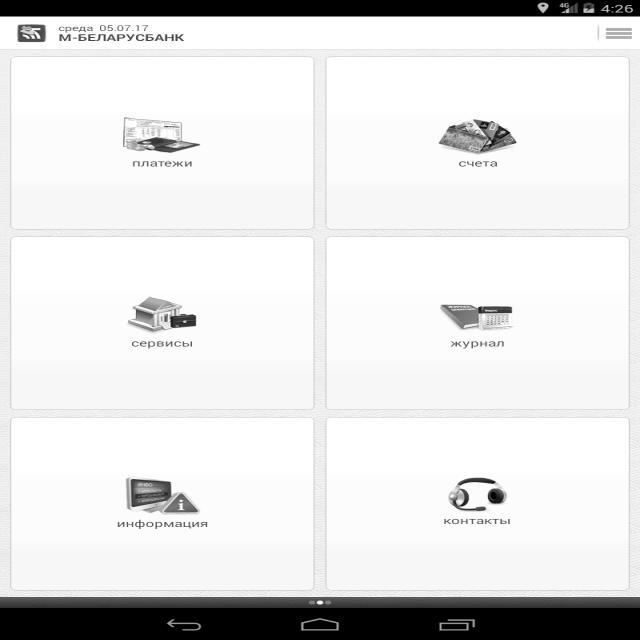ImageButton: (593, 21, 640, 43)
ImageView: (105, 104, 217, 158), (109, 472, 226, 515), (433, 108, 526, 154), (121, 290, 205, 330), (437, 474, 528, 510), (433, 298, 526, 332), (16, 22, 49, 43)
TextView: (58, 22, 189, 44), (114, 517, 213, 532), (440, 513, 516, 528), (127, 336, 197, 348), (452, 341, 510, 351), (454, 158, 502, 169)
